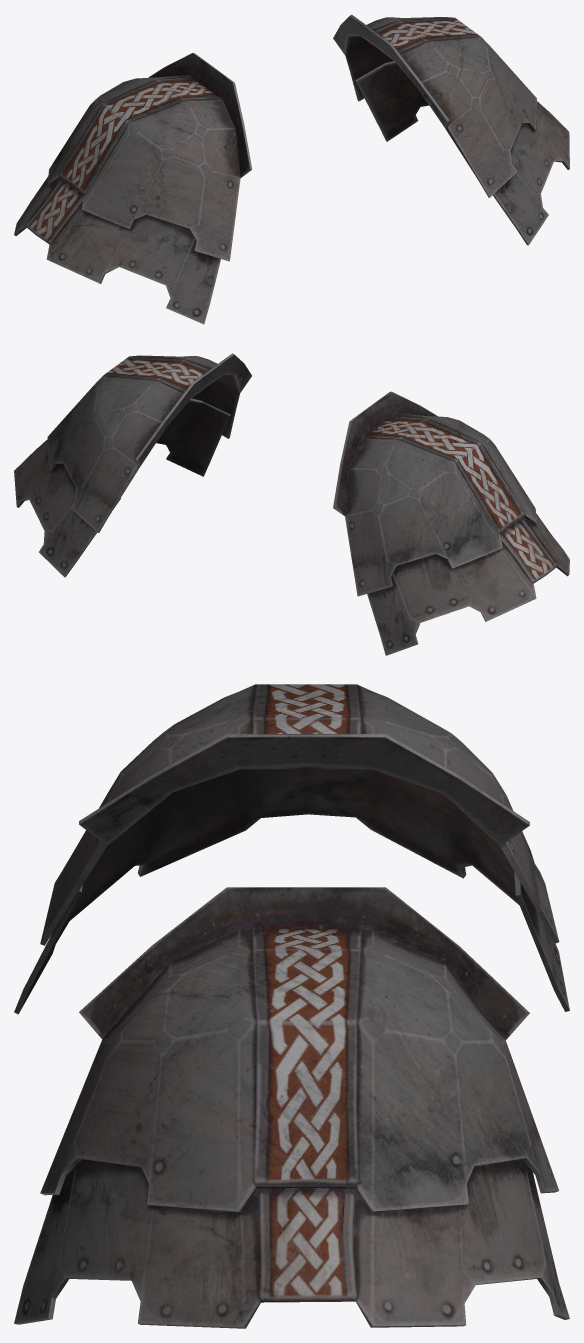
Rendered from sk_dwarf_iron_pauldron_heavy_cape_b1.fbx.
The picture shows the model from 3 angles, top to bottom: view 1: azimuth 30°, elevation 25°; view 2: azimuth 150°, elevation 25°; view 3: azimuth 270°, elevation 25°; orthographic projection. The views are drawn at different scales.
Parts seen in each view (by area): view 1: sk_dwarf_iron_pauldron_heavy_cape_b1; view 2: sk_dwarf_iron_pauldron_heavy_cape_b1; view 3: sk_dwarf_iron_pauldron_heavy_cape_b1.
Part boxes in pixels (x1,y1,x2,y2): sk_dwarf_iron_pauldron_heavy_cape_b1: (14, 14, 569, 324); sk_dwarf_iron_pauldron_heavy_cape_b1: (14, 353, 569, 655); sk_dwarf_iron_pauldron_heavy_cape_b1: (14, 684, 569, 1328).
Bounding box in the file's own units: 0.7125 × 0.334 × 0.2383.
Materials: 1 (1 with a texture image).
